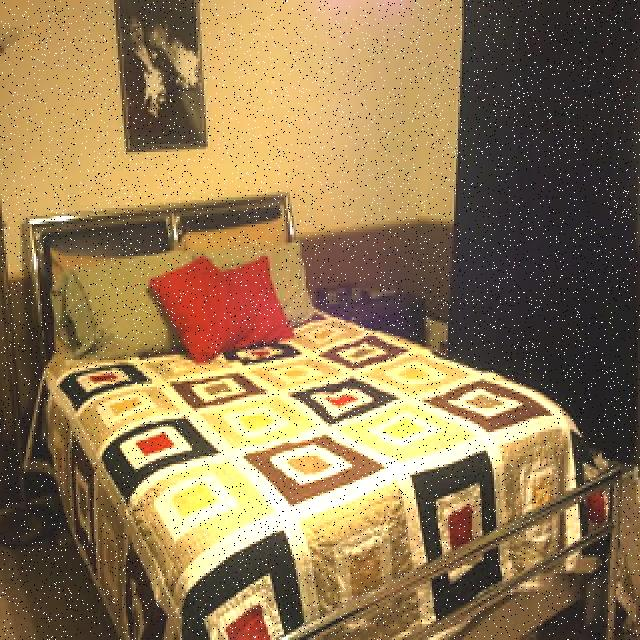bed: (24, 202, 632, 640)
